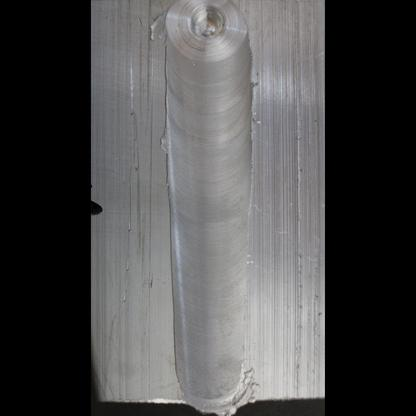cross-section reduction defect: (164, 265, 259, 406)
flash: (246, 75, 264, 131), (146, 13, 167, 41), (155, 128, 169, 154)
galling: (225, 363, 260, 410)
keyhole: (160, 1, 253, 62)
